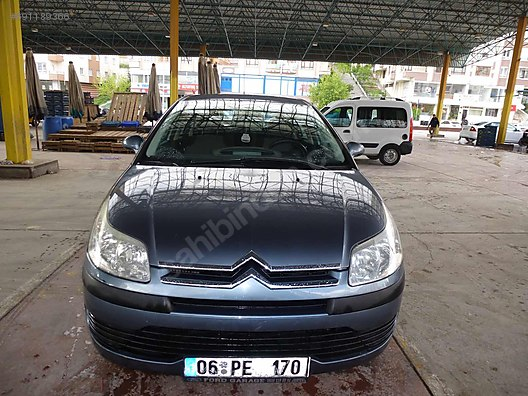citroen: (78, 90, 409, 385)
